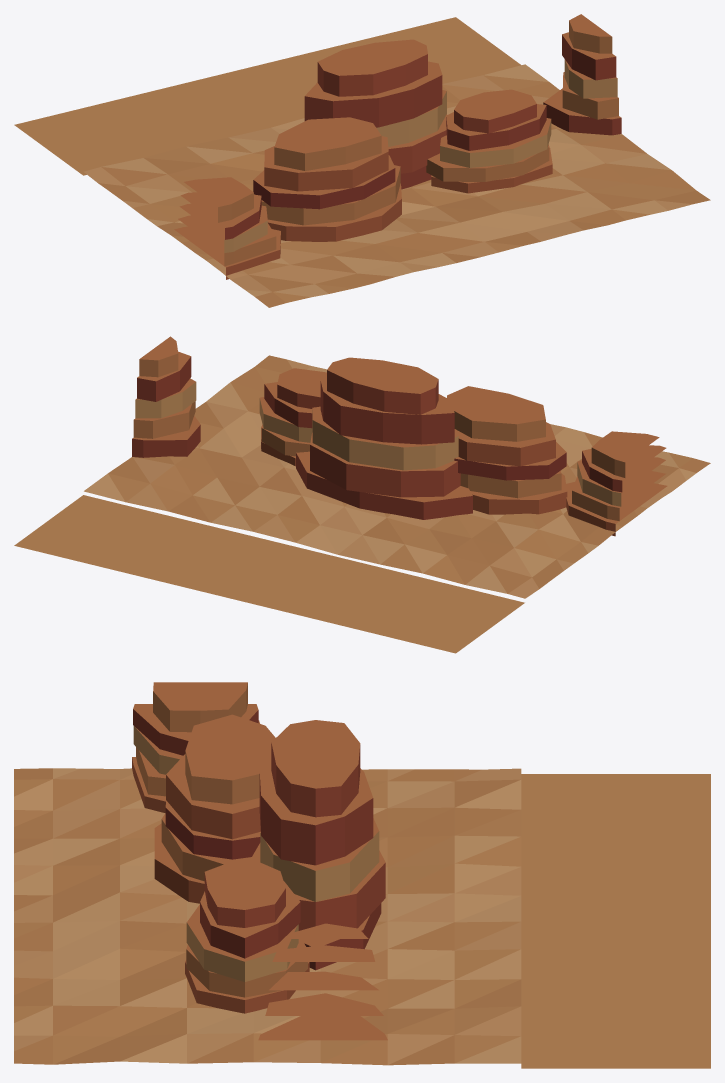
3 views of the same model, one above another, from view 1: azimuth 30°, elevation 25°; view 2: azimuth 150°, elevation 25°; view 3: azimuth 270°, elevation 25° (orthographic). The views are drawn at different scales.
Visible parts, largest first — view 1: baked; view 2: baked; view 3: baked.
Boxes of the visible parts, bbox=[...] form: baked: bbox=[14, 14, 710, 307]; baked: bbox=[14, 336, 710, 653]; baked: bbox=[14, 682, 710, 1068].
Bounding box in the file's own units: 125 × 32.44 × 125.
